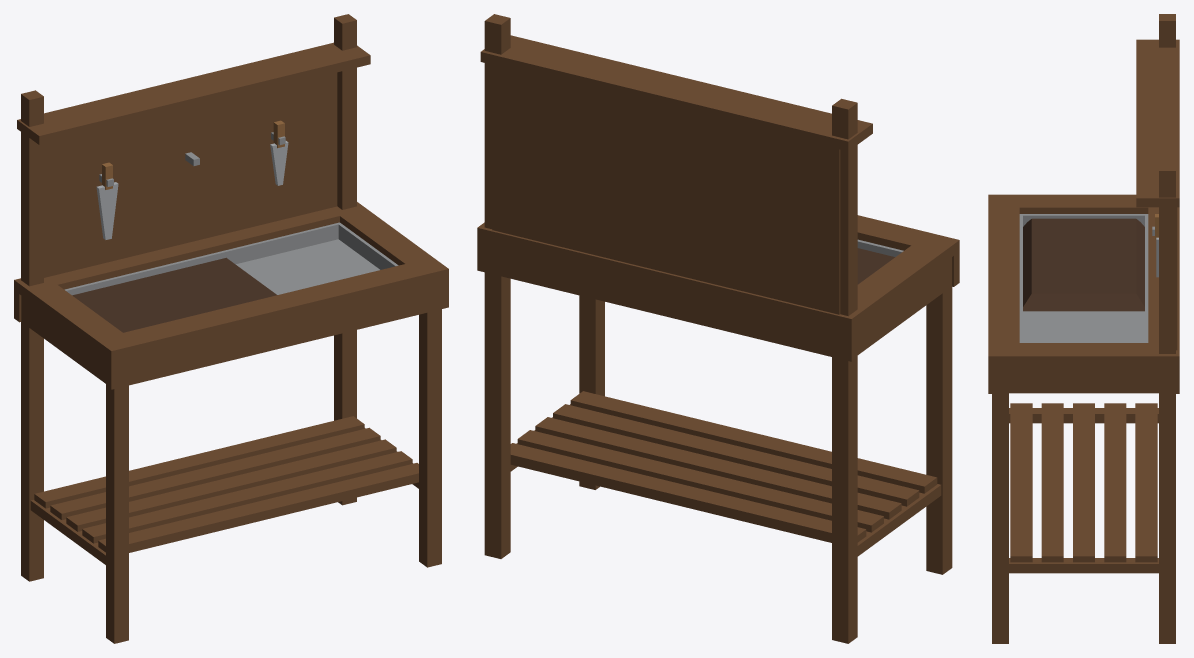
The model's file is FN_Bench_Potting.glb.
3 views of the same model, side by side, from view 1: azimuth 30°, elevation 25°; view 2: azimuth 150°, elevation 25°; view 3: azimuth 270°, elevation 25° (orthographic). The views are drawn at different scales.
Visible parts, largest first — view 1: FN_Bench_Potting; view 2: FN_Bench_Potting; view 3: FN_Bench_Potting.
Boxes of the visible parts, <box> form: FN_Bench_Potting: <box>14,14,448,643</box>; FN_Bench_Potting: <box>477,14,959,643</box>; FN_Bench_Potting: <box>988,14,1179,643</box>.
Size of the model in its own units: 1.1 by 1.5 by 0.55.
Materials: 1 (1 with a texture image).
